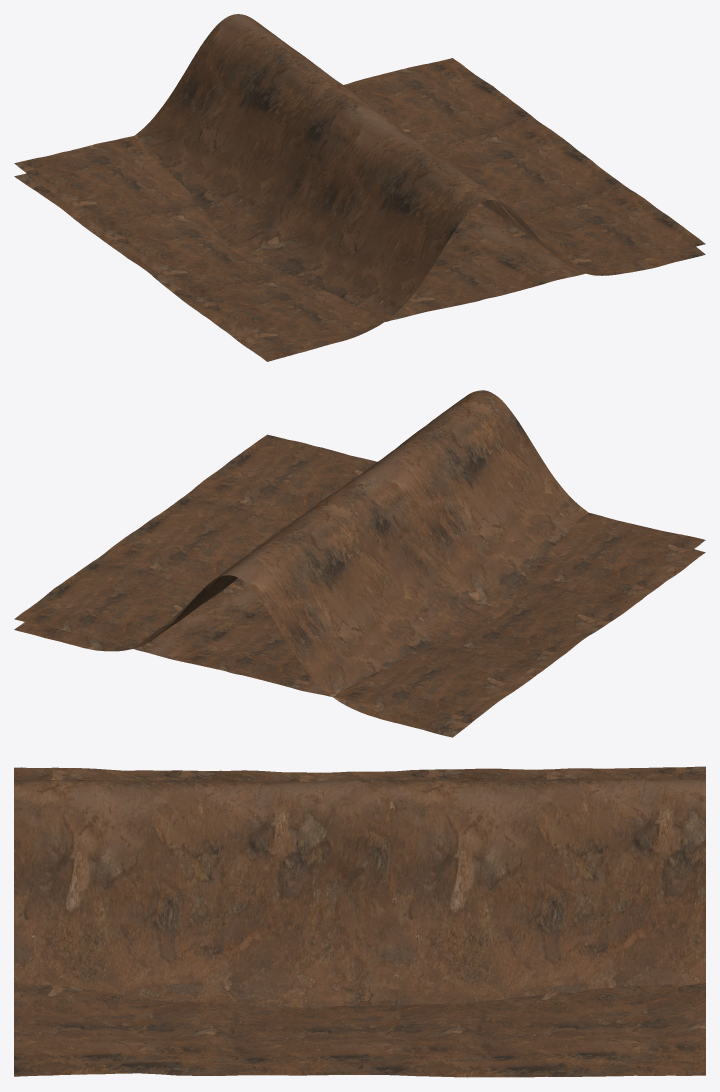
File: wilson-cycle.glb
The picture shows the model from 3 angles, top to bottom: view 1: azimuth 30°, elevation 25°; view 2: azimuth 150°, elevation 25°; view 3: azimuth 270°, elevation 25°; orthographic projection. The views are drawn at different scales.
Visible parts, largest first — view 1: Wilson_Orogen, Wilson_Basin; view 2: Wilson_Orogen, Wilson_Basin; view 3: Wilson_Orogen, Wilson_Basin.
Boxes of the visible parts, x1,y1,x2,y2 form: Wilson_Orogen: [14, 14, 705, 361]; Wilson_Basin: [14, 58, 705, 349]; Wilson_Orogen: [14, 390, 705, 737]; Wilson_Basin: [14, 434, 705, 724]; Wilson_Orogen: [14, 778, 705, 1077]; Wilson_Basin: [14, 766, 705, 1063].
Size of the model in its own units: 6 by 1.56 by 6.
2 materials, 2 textured.
